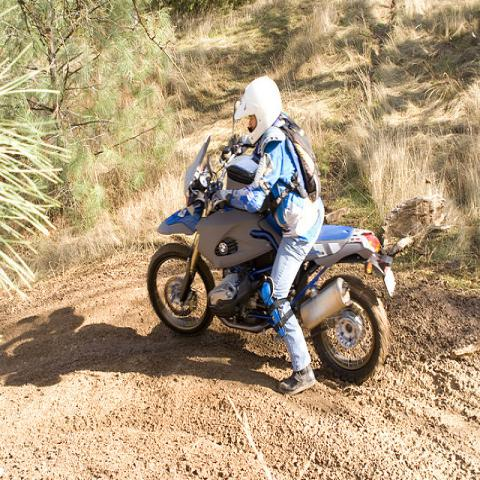motorcycle: (146, 206, 390, 386)
